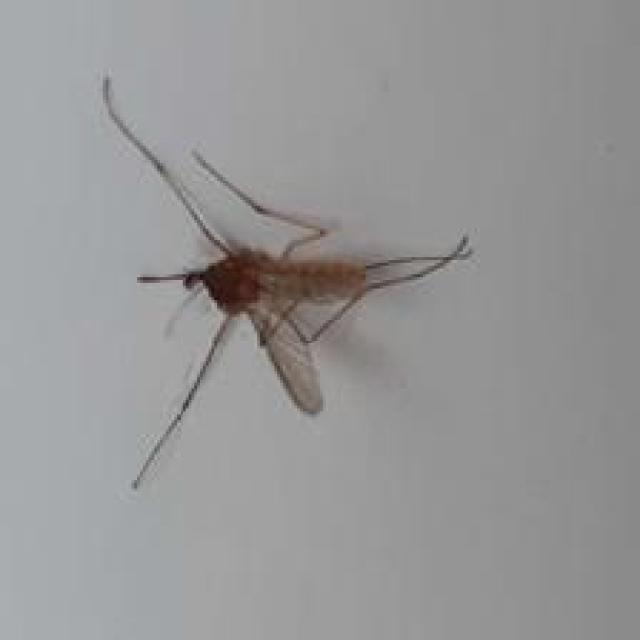Culex: (98, 71, 476, 492)
